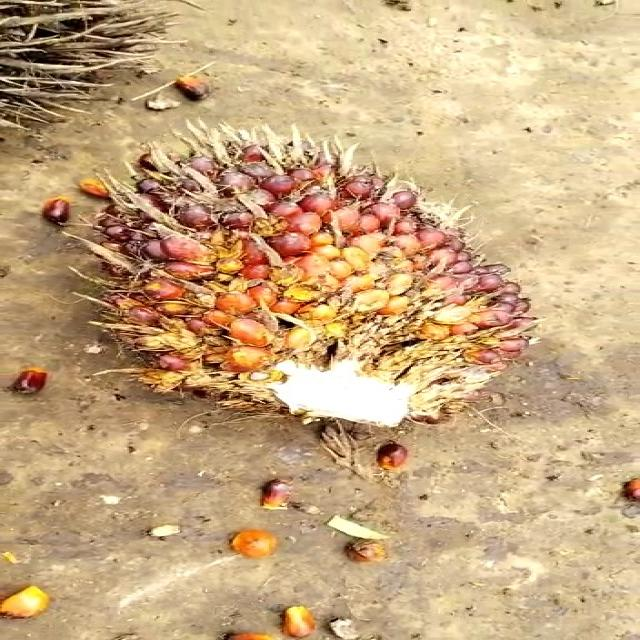palm oil: (74, 125, 543, 431)
